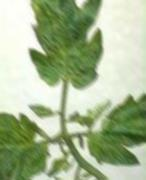Tomato leaf mosaic virus: (18, 0, 108, 93), (86, 88, 144, 171), (0, 112, 49, 180)
